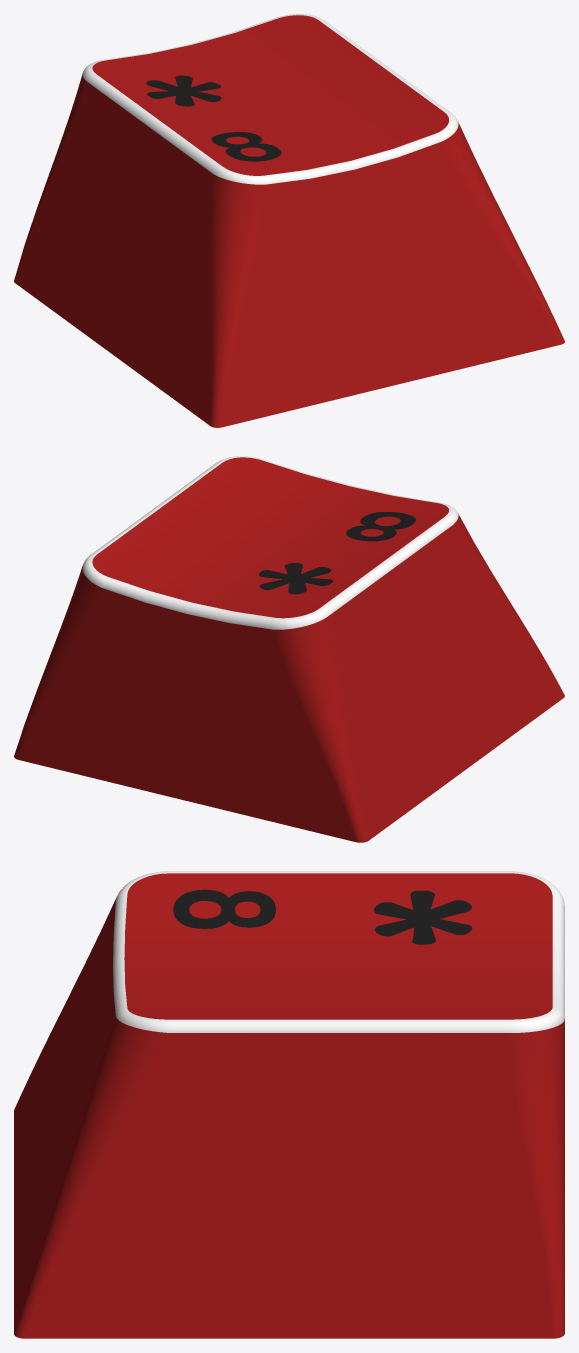
3 renders of one model, top to bottom at view 1: azimuth 30°, elevation 25°; view 2: azimuth 150°, elevation 25°; view 3: azimuth 270°, elevation 25°, orthographic. The views are drawn at different scales.
Parts seen in each view (by area): view 1: Body1; view 2: Body1; view 3: Body1.
Boxes of the visible parts, left/top/right/bottom form: Body1: left=14, top=14, right=564, bottom=427; Body1: left=14, top=456, right=564, bottom=842; Body1: left=14, top=871, right=564, bottom=1338.
Bounding box in the file's own units: 18 × 9.95 × 18.
